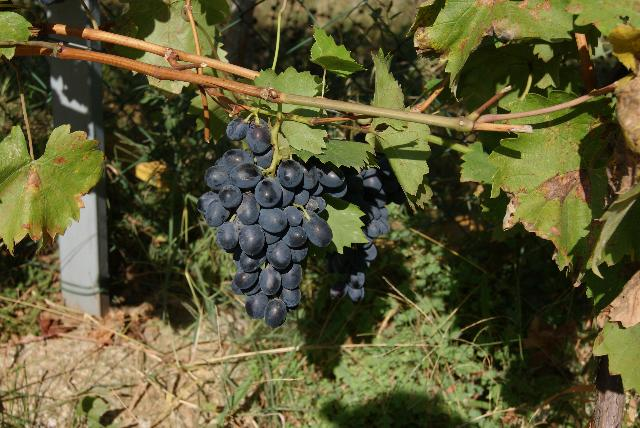grapes: (198, 122, 345, 328), (315, 156, 405, 302)
